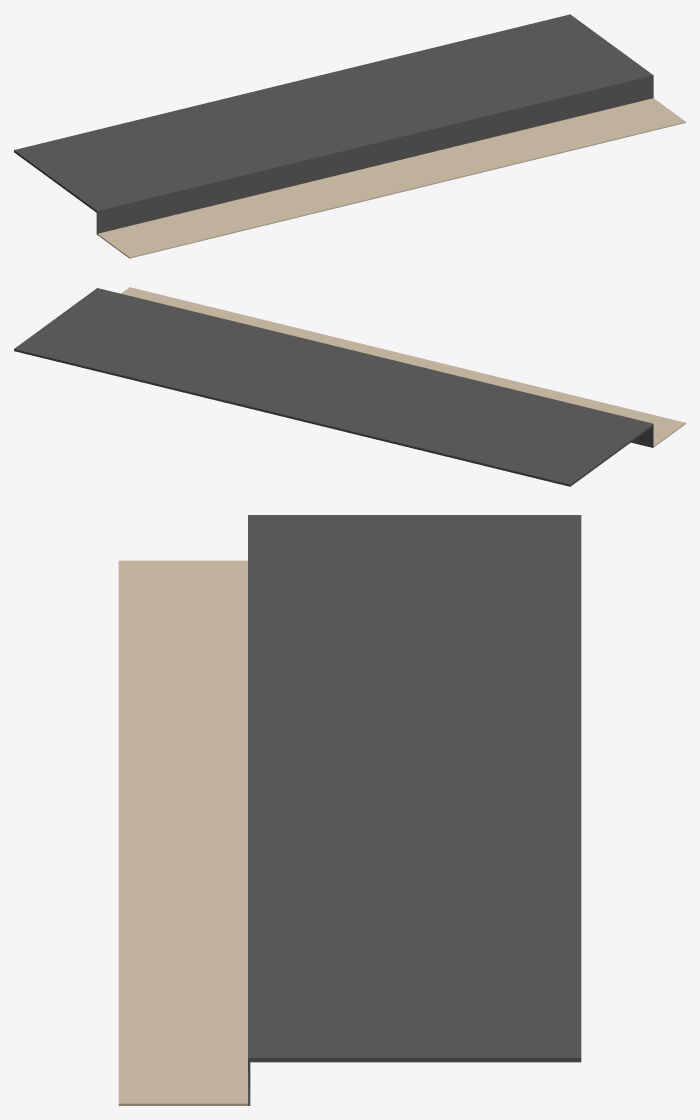
Rendered from room_ceiling.glb.
3 renders of one model, top to bottom at view 1: azimuth 30°, elevation 25°; view 2: azimuth 150°, elevation 25°; view 3: azimuth 270°, elevation 25°, orthographic. The views are drawn at different scales.
Visible parts, largest first — view 1: paint_matte_0, paint_matte_7; view 2: paint_matte_0, paint_matte_7; view 3: paint_matte_0, paint_matte_7.
Boxes of the visible parts, <box> form: paint_matte_0: <box>14,14,653,233</box>; paint_matte_7: <box>98,98,685,258</box>; paint_matte_0: <box>14,288,653,486</box>; paint_matte_7: <box>121,287,685,445</box>; paint_matte_0: <box>248,515,581,1101</box>; paint_matte_7: <box>118,560,247,1103</box>.
Bounding box in the file's own units: 26.83 × 1.1 × 9.66.
